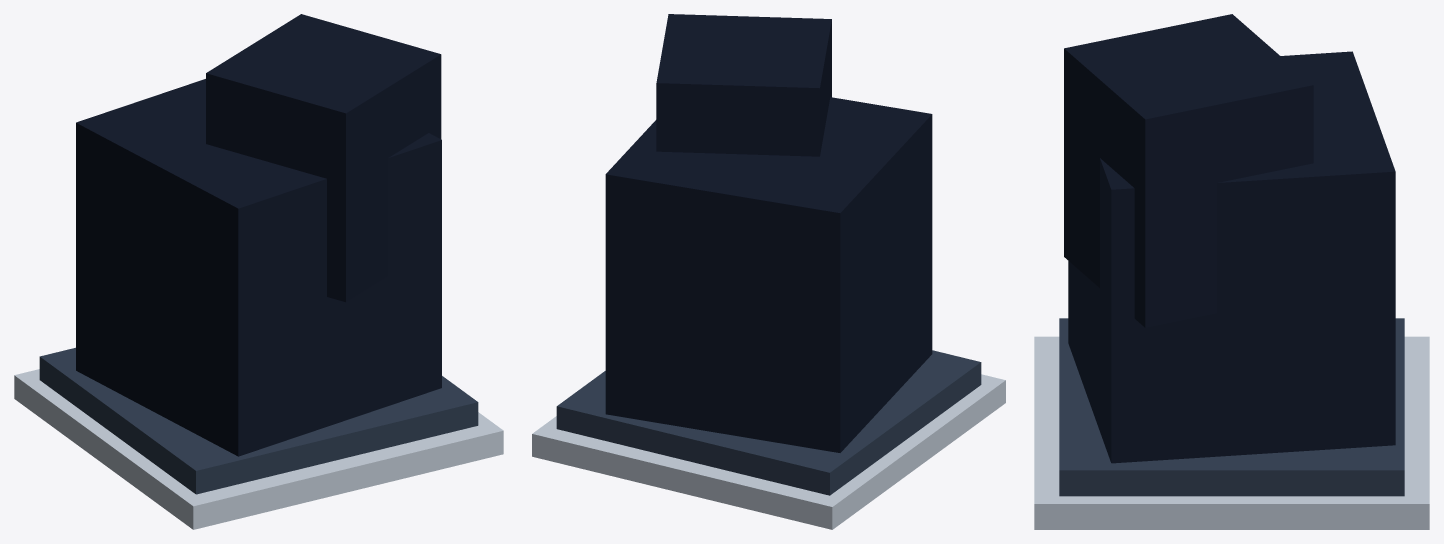
The model's file is bld_c3_cell_29.glb.
3 views of the same model, side by side, from view 1: azimuth 30°, elevation 25°; view 2: azimuth 150°, elevation 25°; view 3: azimuth 270°, elevation 25° (orthographic). The views are drawn at different scales.
Parts seen in each view (by area): view 1: Bld_C3_Cell_29_BespokeLandmark; view 2: Bld_C3_Cell_29_BespokeLandmark; view 3: Bld_C3_Cell_29_BespokeLandmark.
Part boxes in pixels (left/top/right/bottom): Bld_C3_Cell_29_BespokeLandmark: left=14, top=14, right=503, bottom=529; Bld_C3_Cell_29_BespokeLandmark: left=532, top=14, right=1005, bottom=529; Bld_C3_Cell_29_BespokeLandmark: left=1034, top=14, right=1429, bottom=529.
Bounding box in the file's own units: 0.55 × 0.62 × 0.55.
